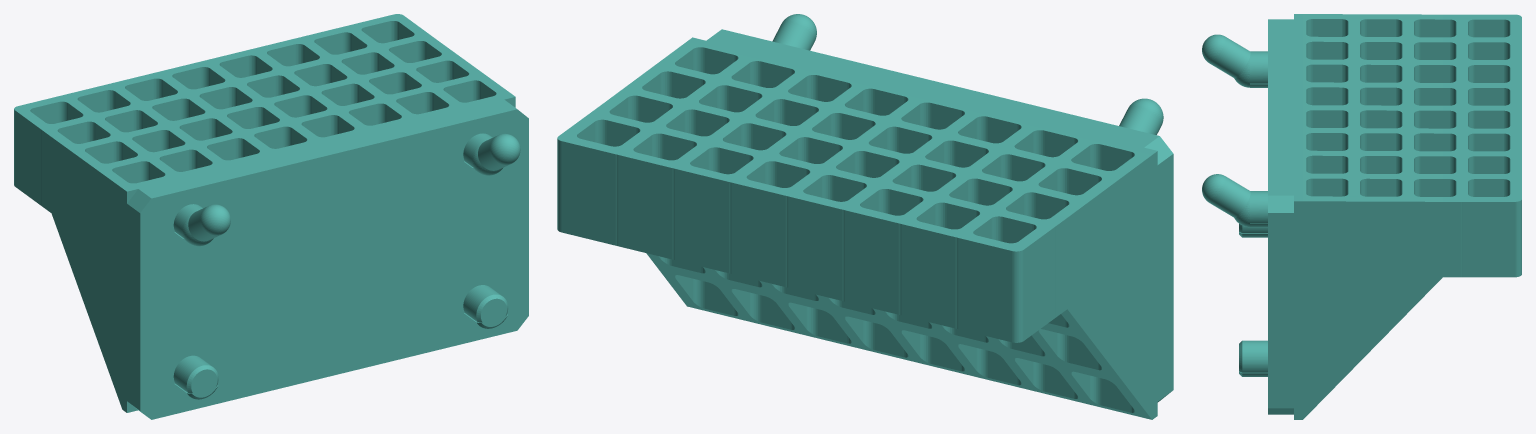
3 renders of one model, left to right at view 1: azimuth 30°, elevation 25°; view 2: azimuth 150°, elevation 25°; view 3: azimuth 270°, elevation 25°, orthographic. The views are drawn at different scales.
Parts seen in each view (by area): view 1: Actual holder mesh; view 2: Actual holder mesh; view 3: Actual holder mesh.
Part boxes in pixels (x1,y1,x2,y2): Actual holder mesh: [14, 14, 528, 419]; Actual holder mesh: [557, 14, 1173, 419]; Actual holder mesh: [1202, 14, 1521, 419].
Bounding box in the file's own units: 0.0682 × 0.0374 × 0.0492.
